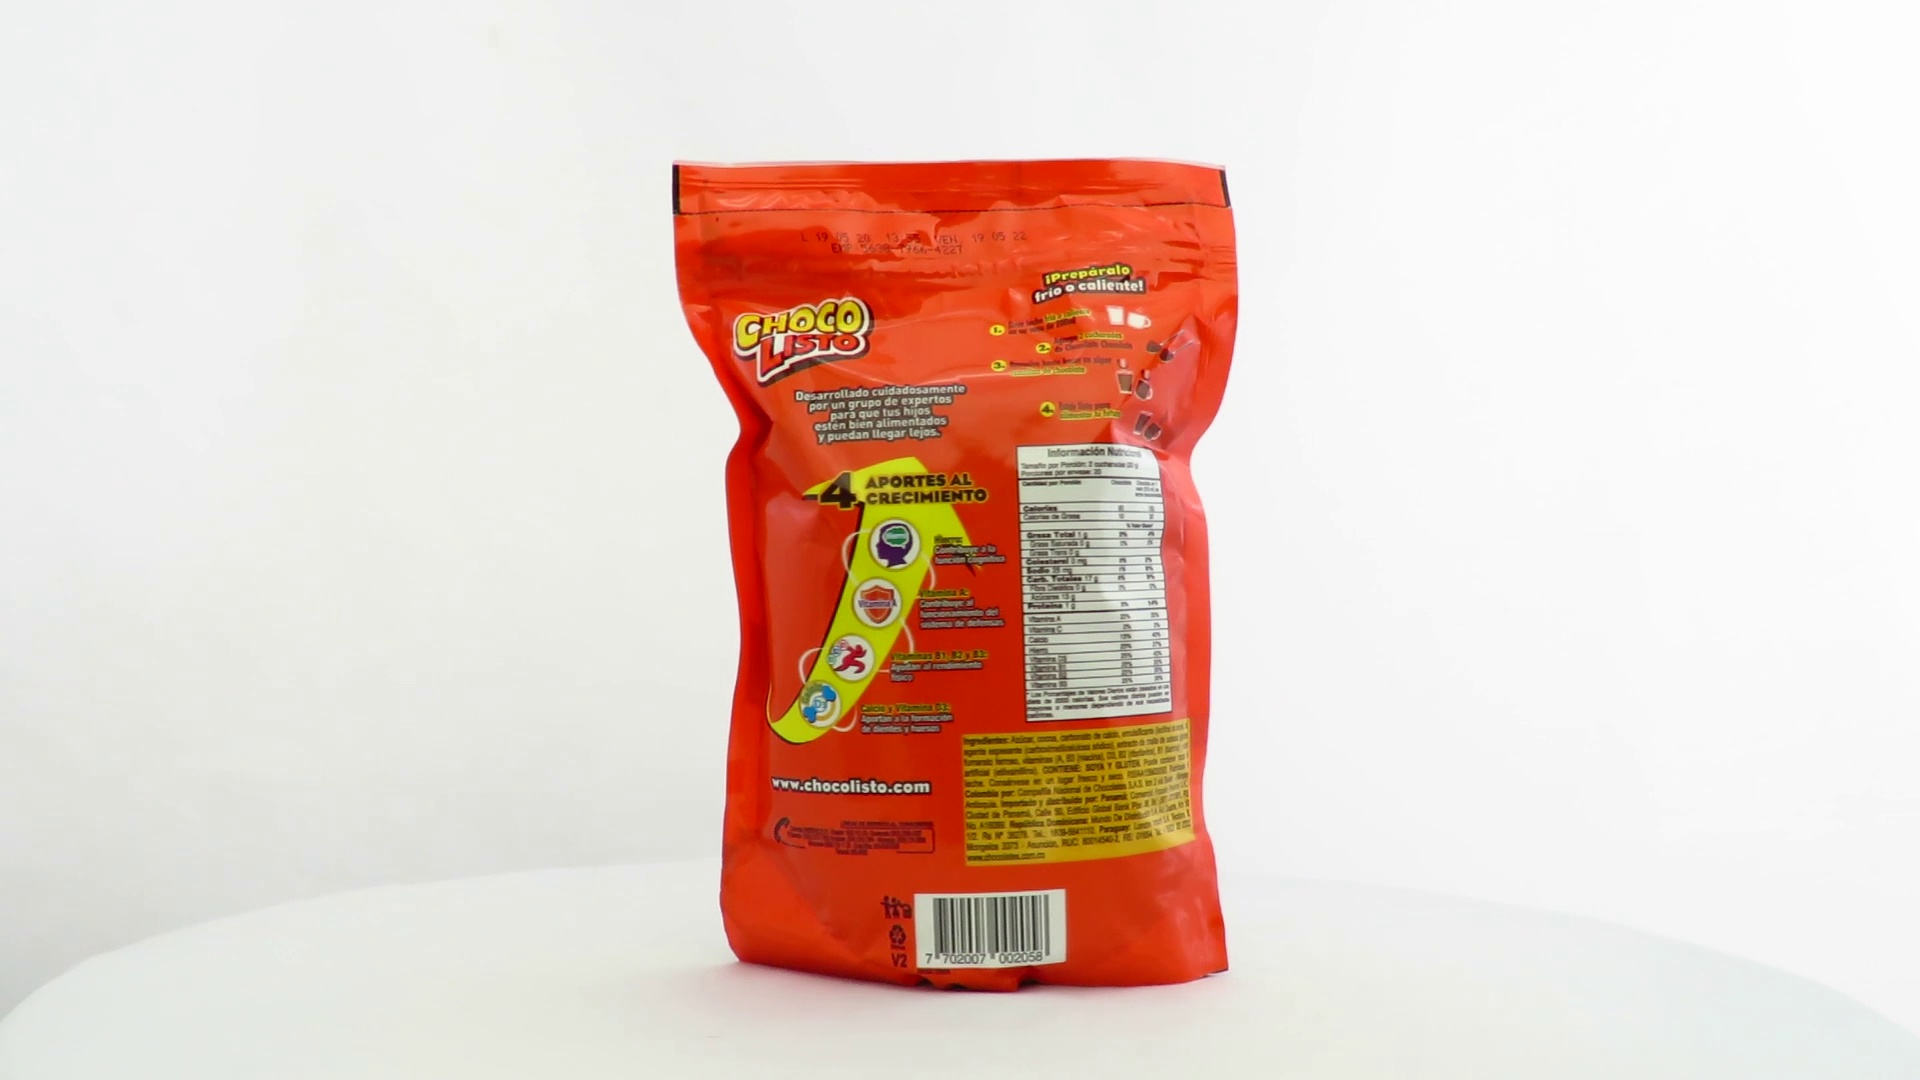COL0170103DYP40000: (667, 152, 1245, 1000)
